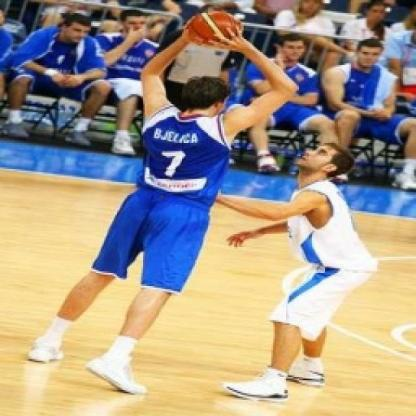basketball: (184, 0, 247, 53)
